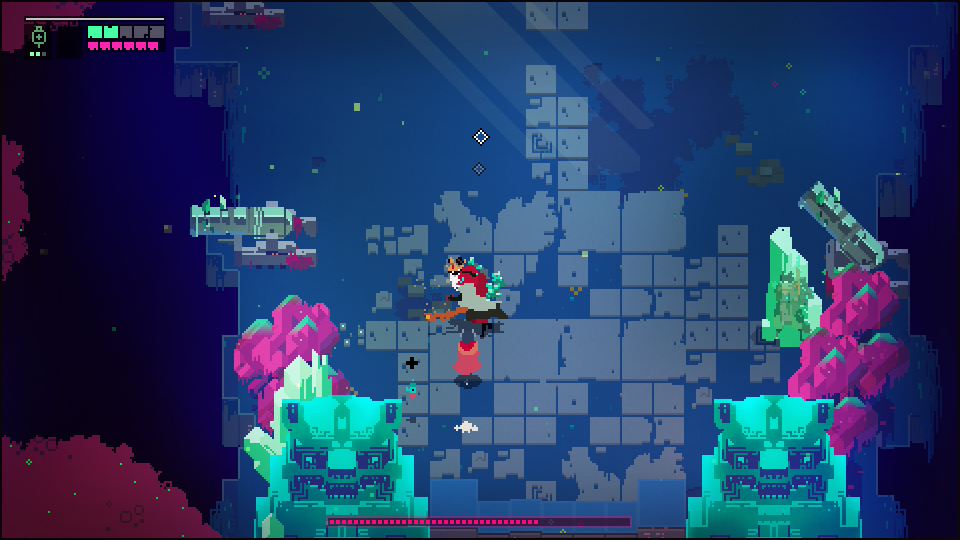hanged_man: (422, 251, 510, 337)
player: (452, 326, 483, 390)
